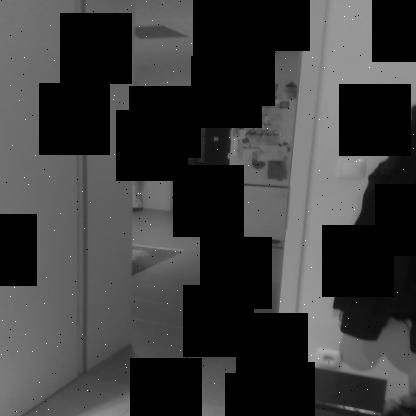Porte: (73, 0, 333, 415)
